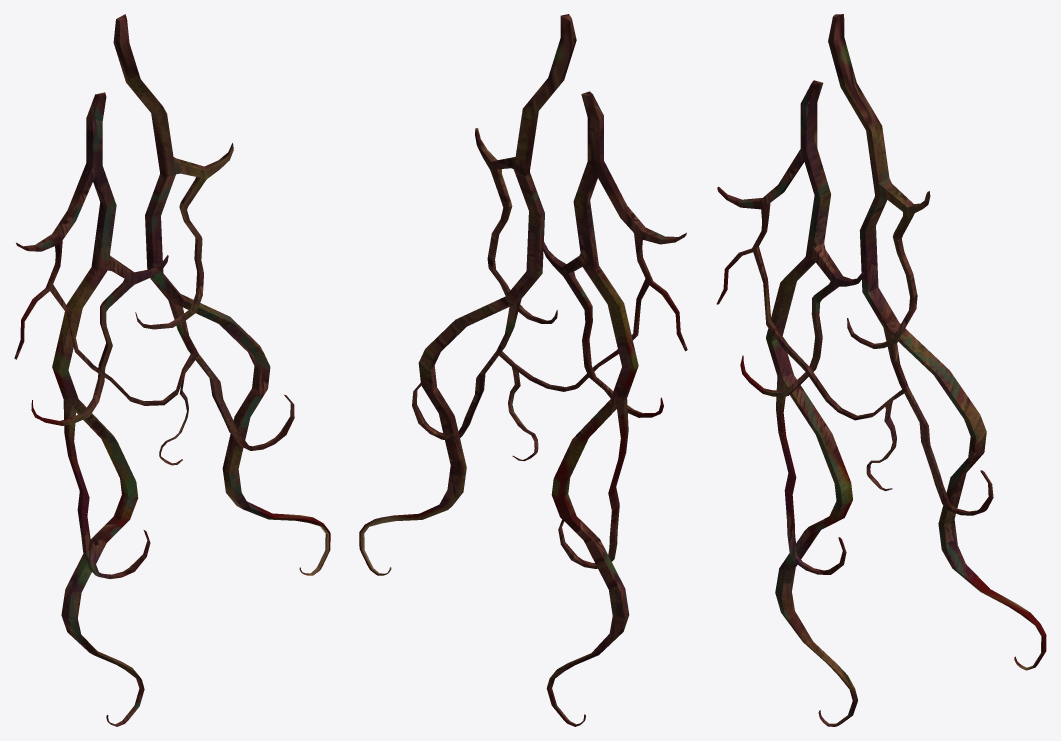
File: ModelledTexturedAsset_CreepyPlant.fbx
The picture shows the model from 3 angles, left to right: view 1: azimuth 30°, elevation 25°; view 2: azimuth 150°, elevation 25°; view 3: azimuth 330°, elevation 25°; orthographic projection.
Parts seen in each view (by area): view 1: pCube3; view 2: pCube3; view 3: pCube3.
Part boxes in pixels (box(x1,y1,x2,y2)): pCube3: box(14, 14, 330, 726); pCube3: box(359, 14, 687, 726); pCube3: box(716, 14, 1046, 726).
Size of the model in its own units: 194 by 409 by 15.45.
Materials: 1 (1 with a texture image).
